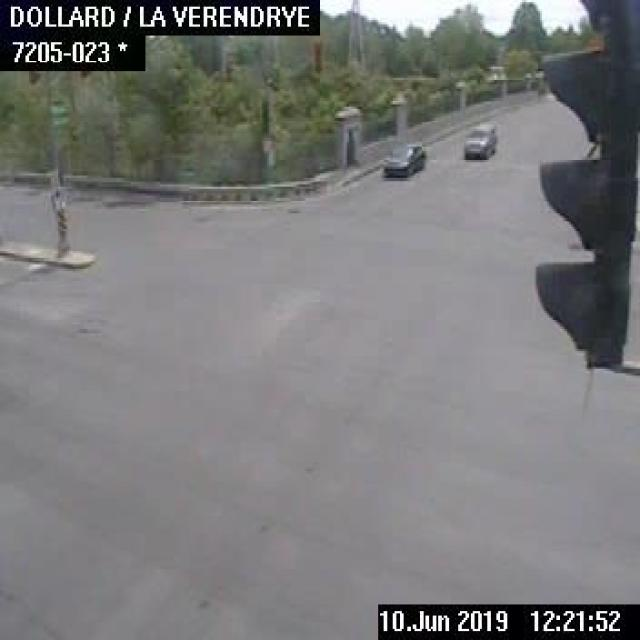vehicle: (458, 118, 496, 160), (380, 140, 424, 176)
